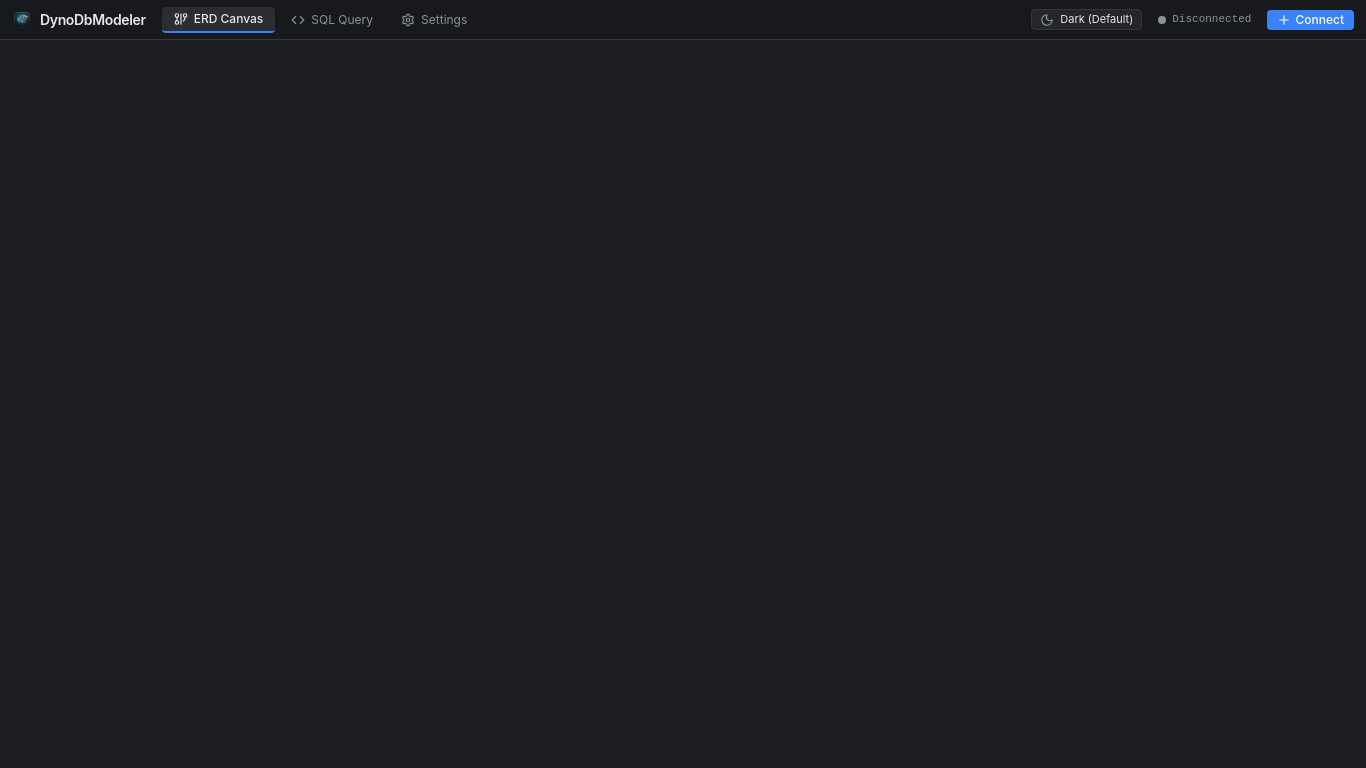
HeaderBar component › renders theme switcher button and toggles theme dropdown popover
Note: Click to open dropdown
Click the button with test id "header-theme-switcher-btn": {"x": 1087, "y": 20} x1=1031 y1=9 x2=1142 y2=30
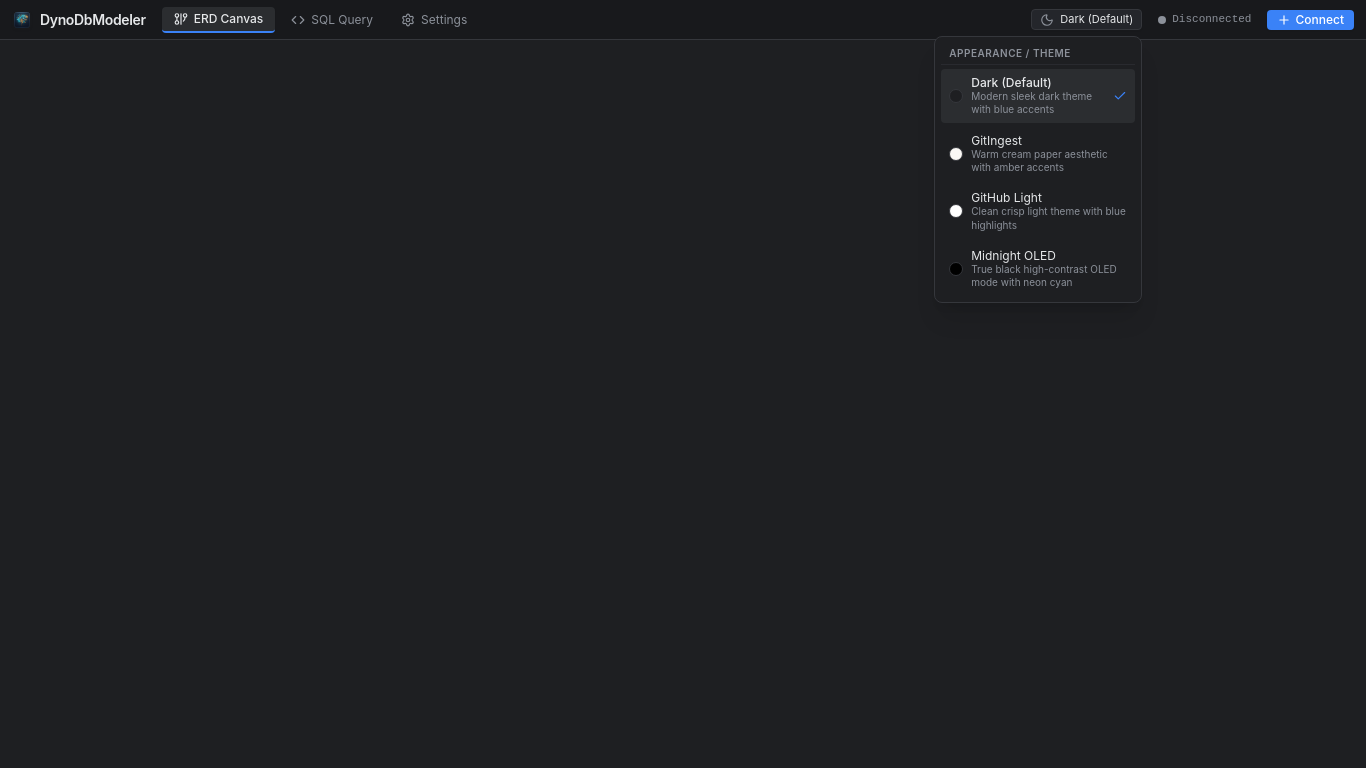
Check: the element with test id "header-theme-dropdown" is shown, box x1=934 y1=36 x2=1142 y2=303
Check: the text "GitIngest" is shown, box x1=971 y1=133 x2=1022 y2=148
Check: the text "GitHub Light" is shown, box x1=971 y1=190 x2=1042 y2=206
Note: Select GitIngest
Click the button with test id "theme-option-gitingest": {"x": 1038, "y": 154} x1=941 y1=127 x2=1135 y2=180
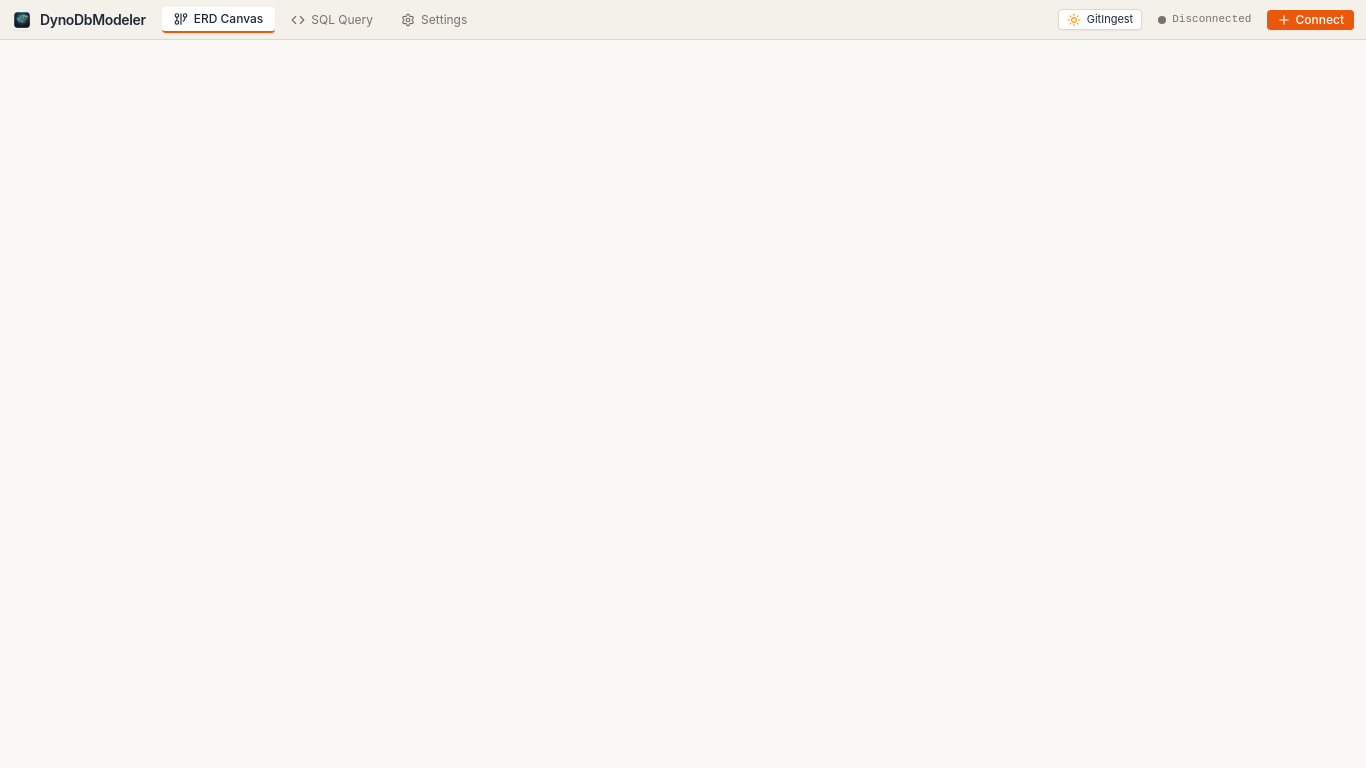
Check: the element with test id "header-theme-dropdown" is gone
